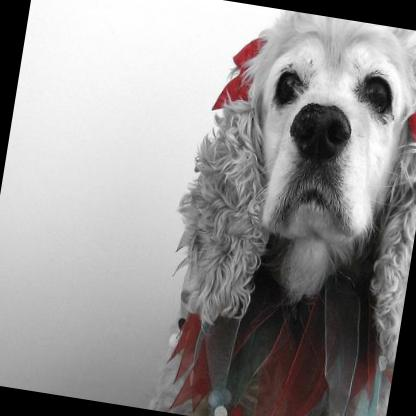cocker_spaniel: (143, 0, 416, 416)
